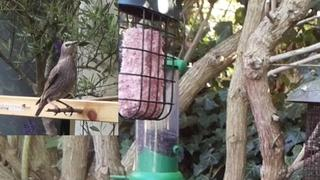starling: (35, 40, 78, 117)
